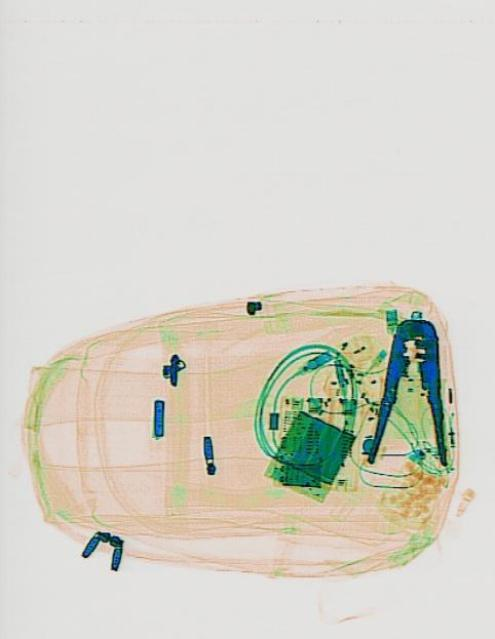Pliers: (364, 315, 450, 466)
